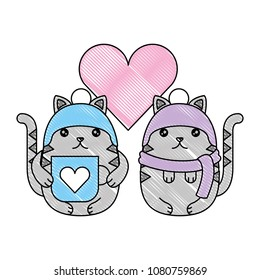cat: (13, 87, 132, 220), (136, 86, 248, 219)
heart: (74, 41, 184, 130)
